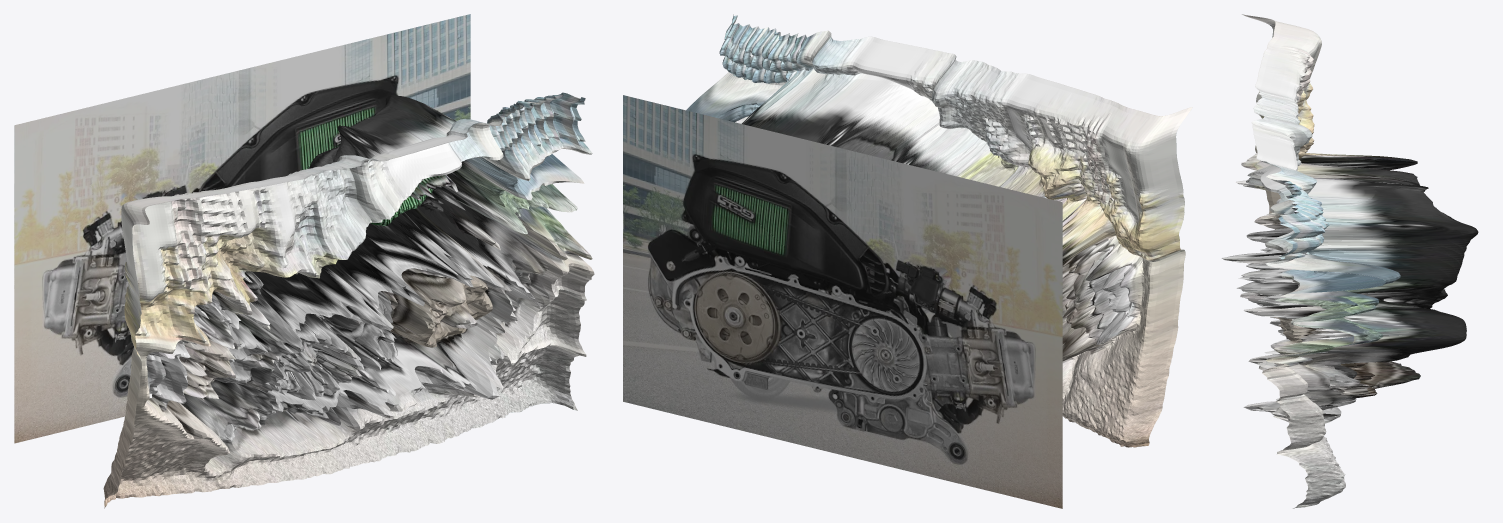
Rendered from recon_cfe99bd4_honda-click-150i-engine-view-917547.glb.
The picture shows the model from 3 angles, left to right: view 1: azimuth 30°, elevation 25°; view 2: azimuth 150°, elevation 25°; view 3: azimuth 270°, elevation 25°; orthographic projection. The views are drawn at different scales.
Visible parts, largest first — view 1: mesh; view 2: mesh; view 3: mesh.
Part boxes in pixels (x1,y1,x2,y2): mesh: [14, 14, 594, 508]; mesh: [623, 14, 1192, 508]; mesh: [1221, 14, 1478, 508].
Size of the model in its own units: 1.5 by 1 by 0.832.
Materials: 1 (1 with a texture image).
